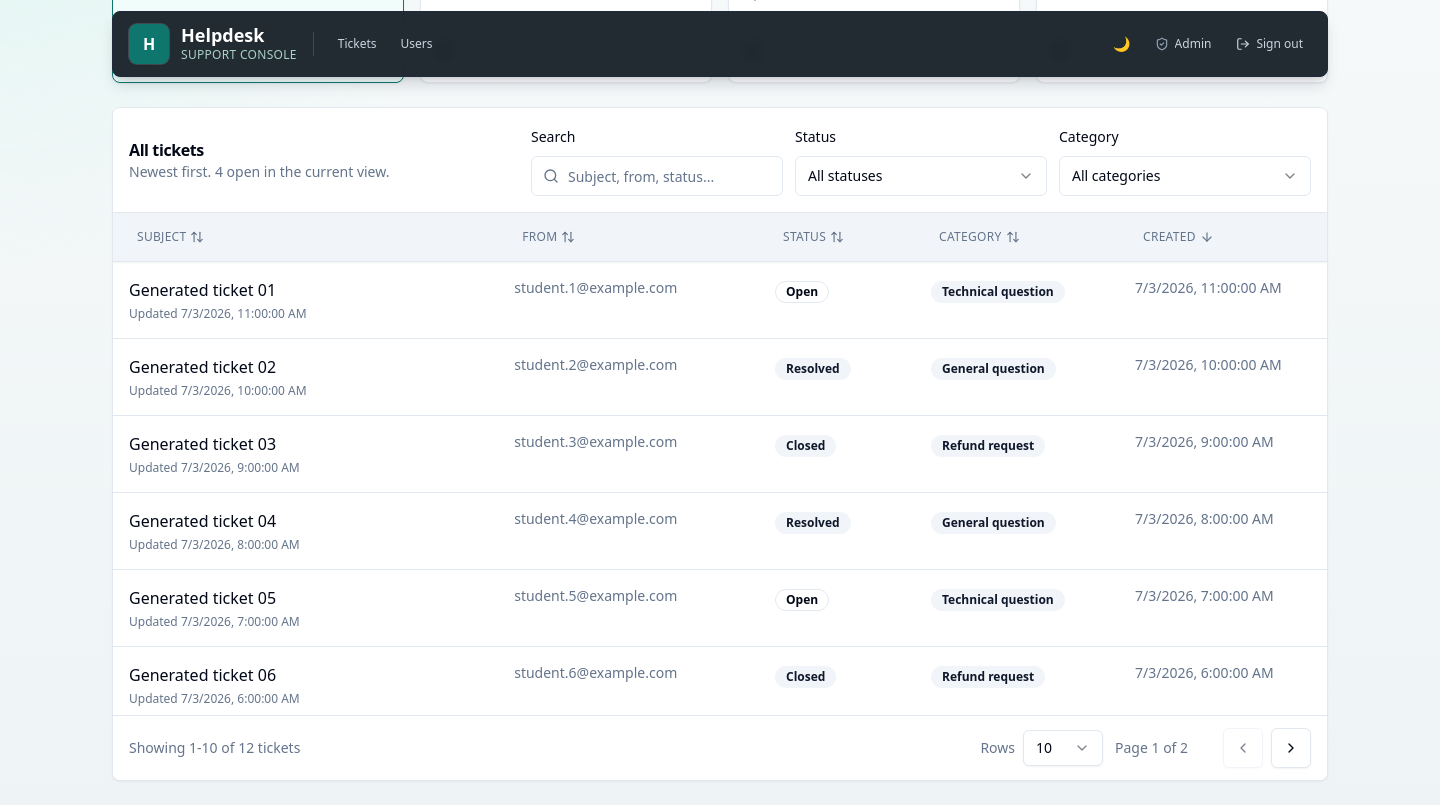
Scenario: Tickets UI › ticket list paginates longer result sets
(page scrolled)
Expected: the text "Showing 1-10 of 12 tickets" is shown, [129,738,300,758]
Expected: the link "Generated ticket 01" is shown, [129,279,276,301]
Click the button named "Next tickets page" at (1291, 748), box [1271,728,1311,768]
(page scrolled)
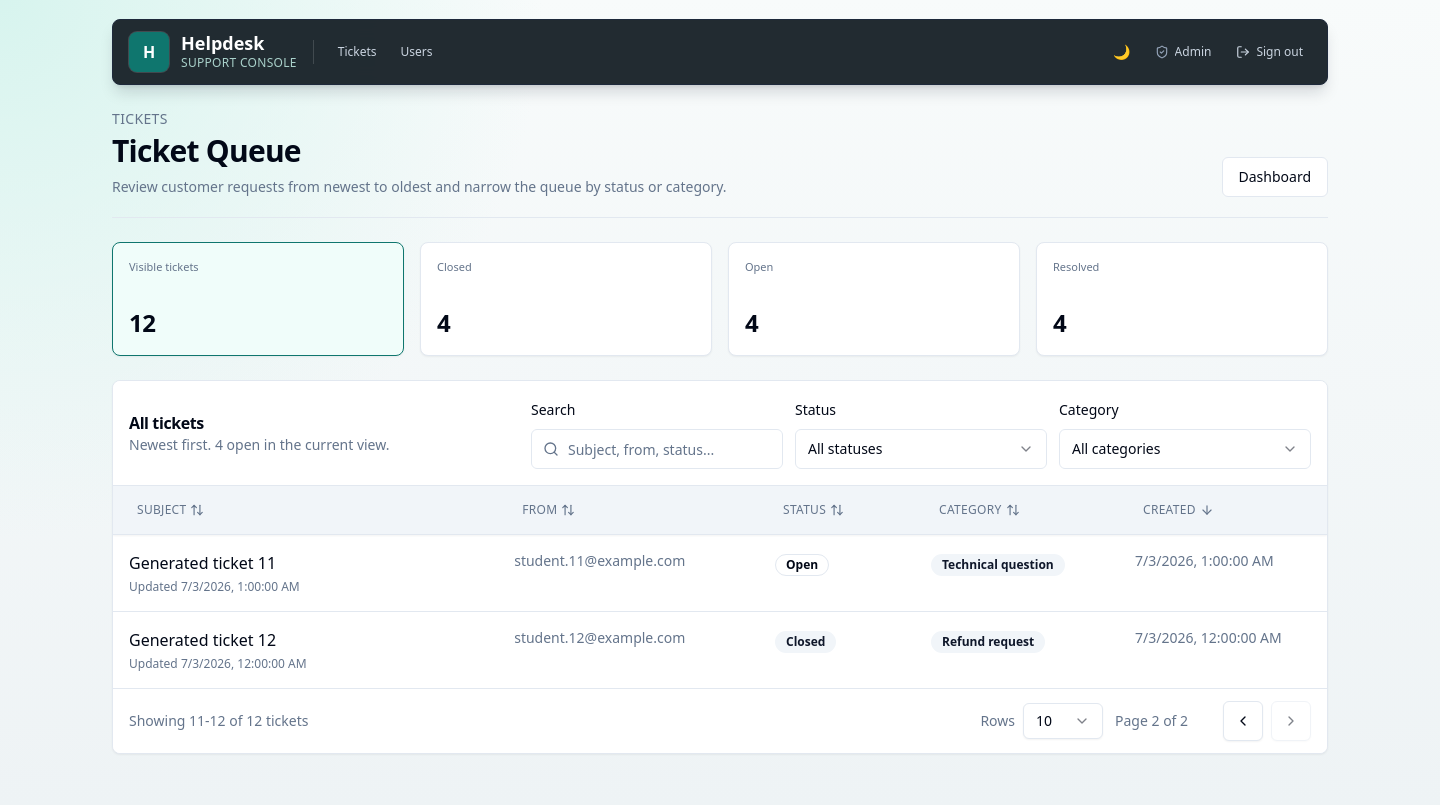
Now the text "Showing 11-12 of 12 tickets" is shown, box [129,711,308,731]
Now the link "Generated ticket 11" is shown, box [129,552,276,574]
Now the link "Generated ticket 12" is shown, box [129,629,276,651]
